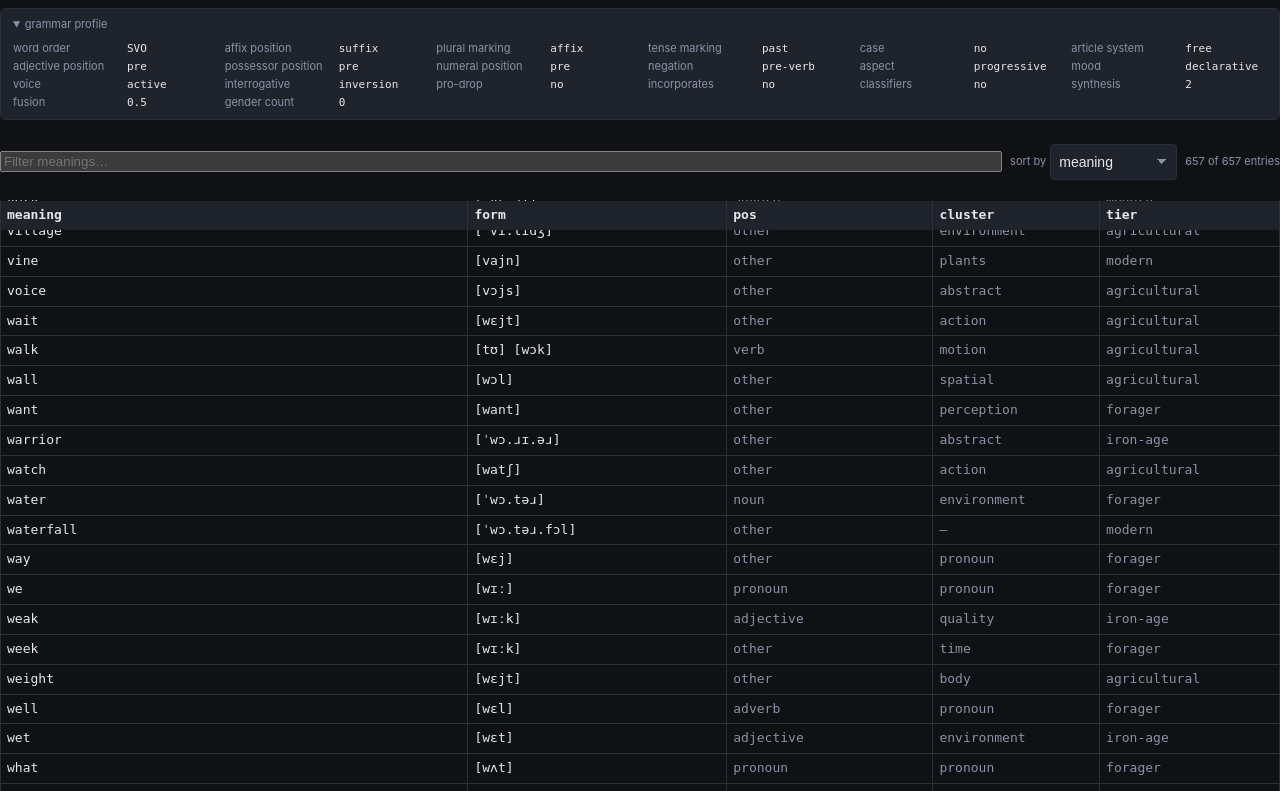
Test case: DictionaryView — drifted meanings › flags a glided meaning with a 'drifted' badge
The image size is (1280, 791).
(page scrolled)
Click the text "water". click: (234, 500)
box: left=0, top=485, right=468, bottom=515
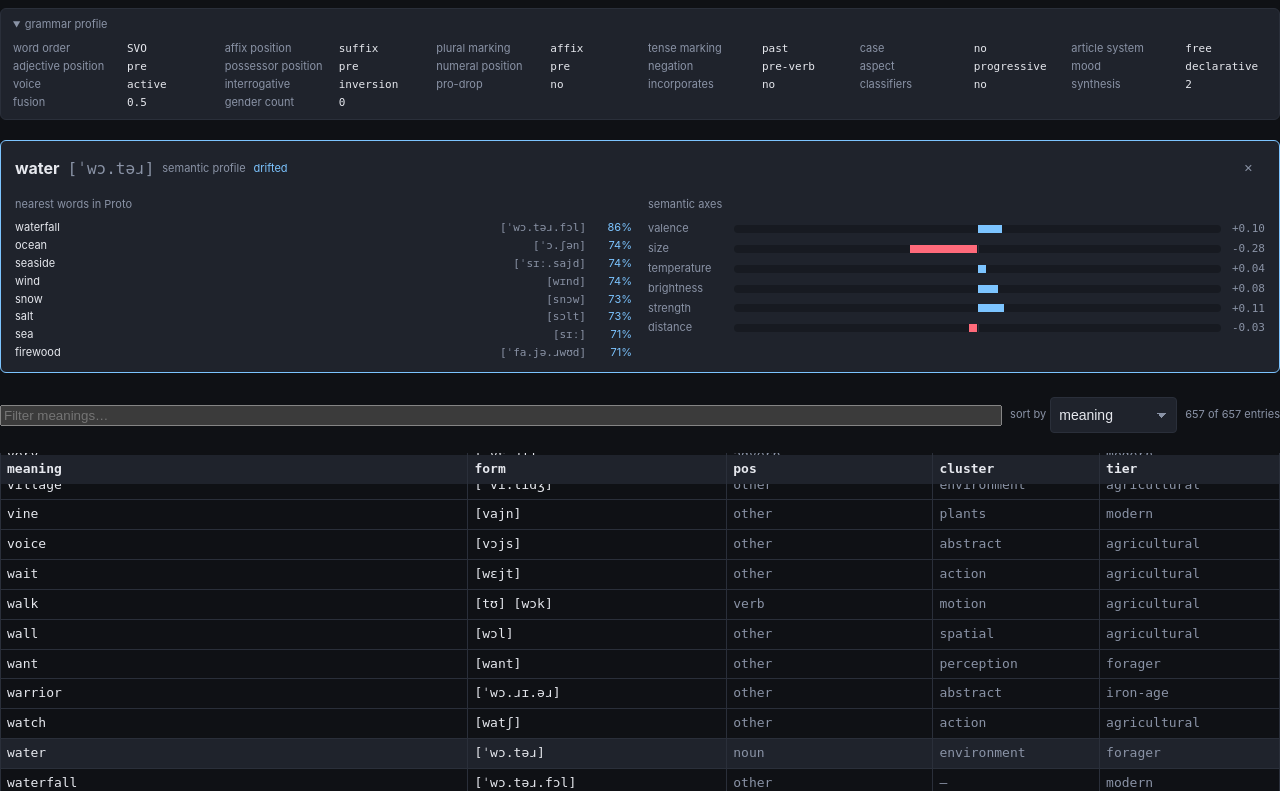
Now the text "drifted" is shown, box left=254, top=161, right=288, bottom=177
